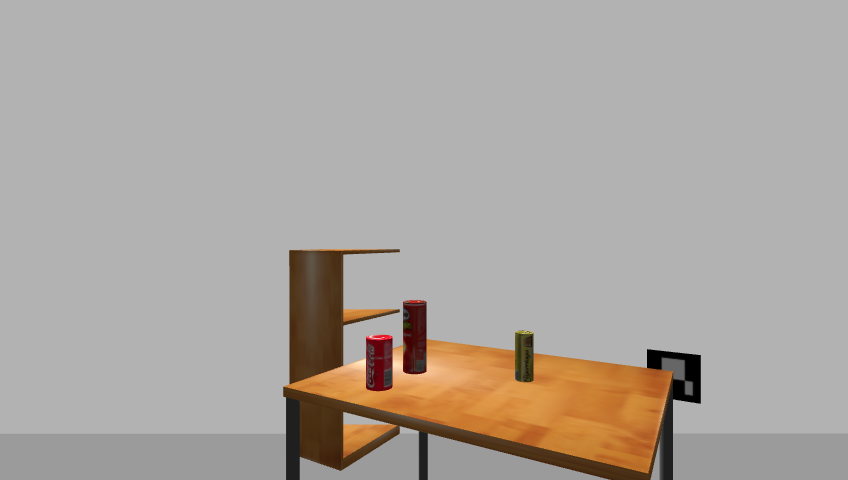aruco marker: (642, 347, 706, 406)
biscuits pack: (513, 331, 535, 384)
bookshelf: (284, 245, 405, 479)
coke can: (364, 335, 394, 392)
dinner table: (276, 340, 681, 479)
pringles can: (400, 300, 428, 376)
